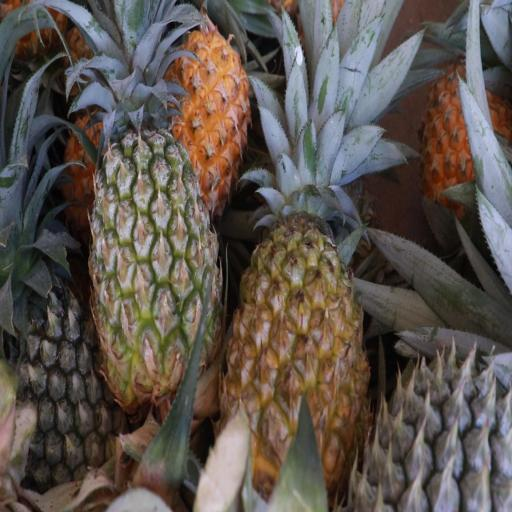------------------------------: (84, 120, 216, 398)
Pineapple - v8 v1: (226, 156, 368, 480), (104, 14, 250, 168), (412, 67, 503, 191)
